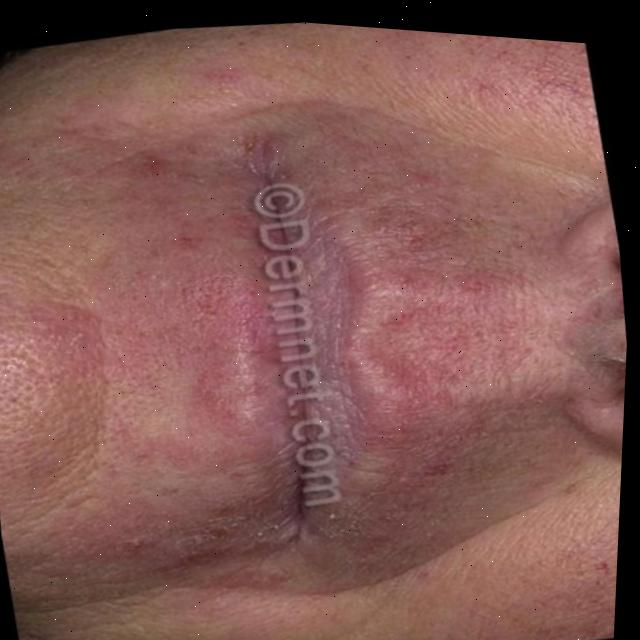Eczema: (103, 104, 532, 584)
